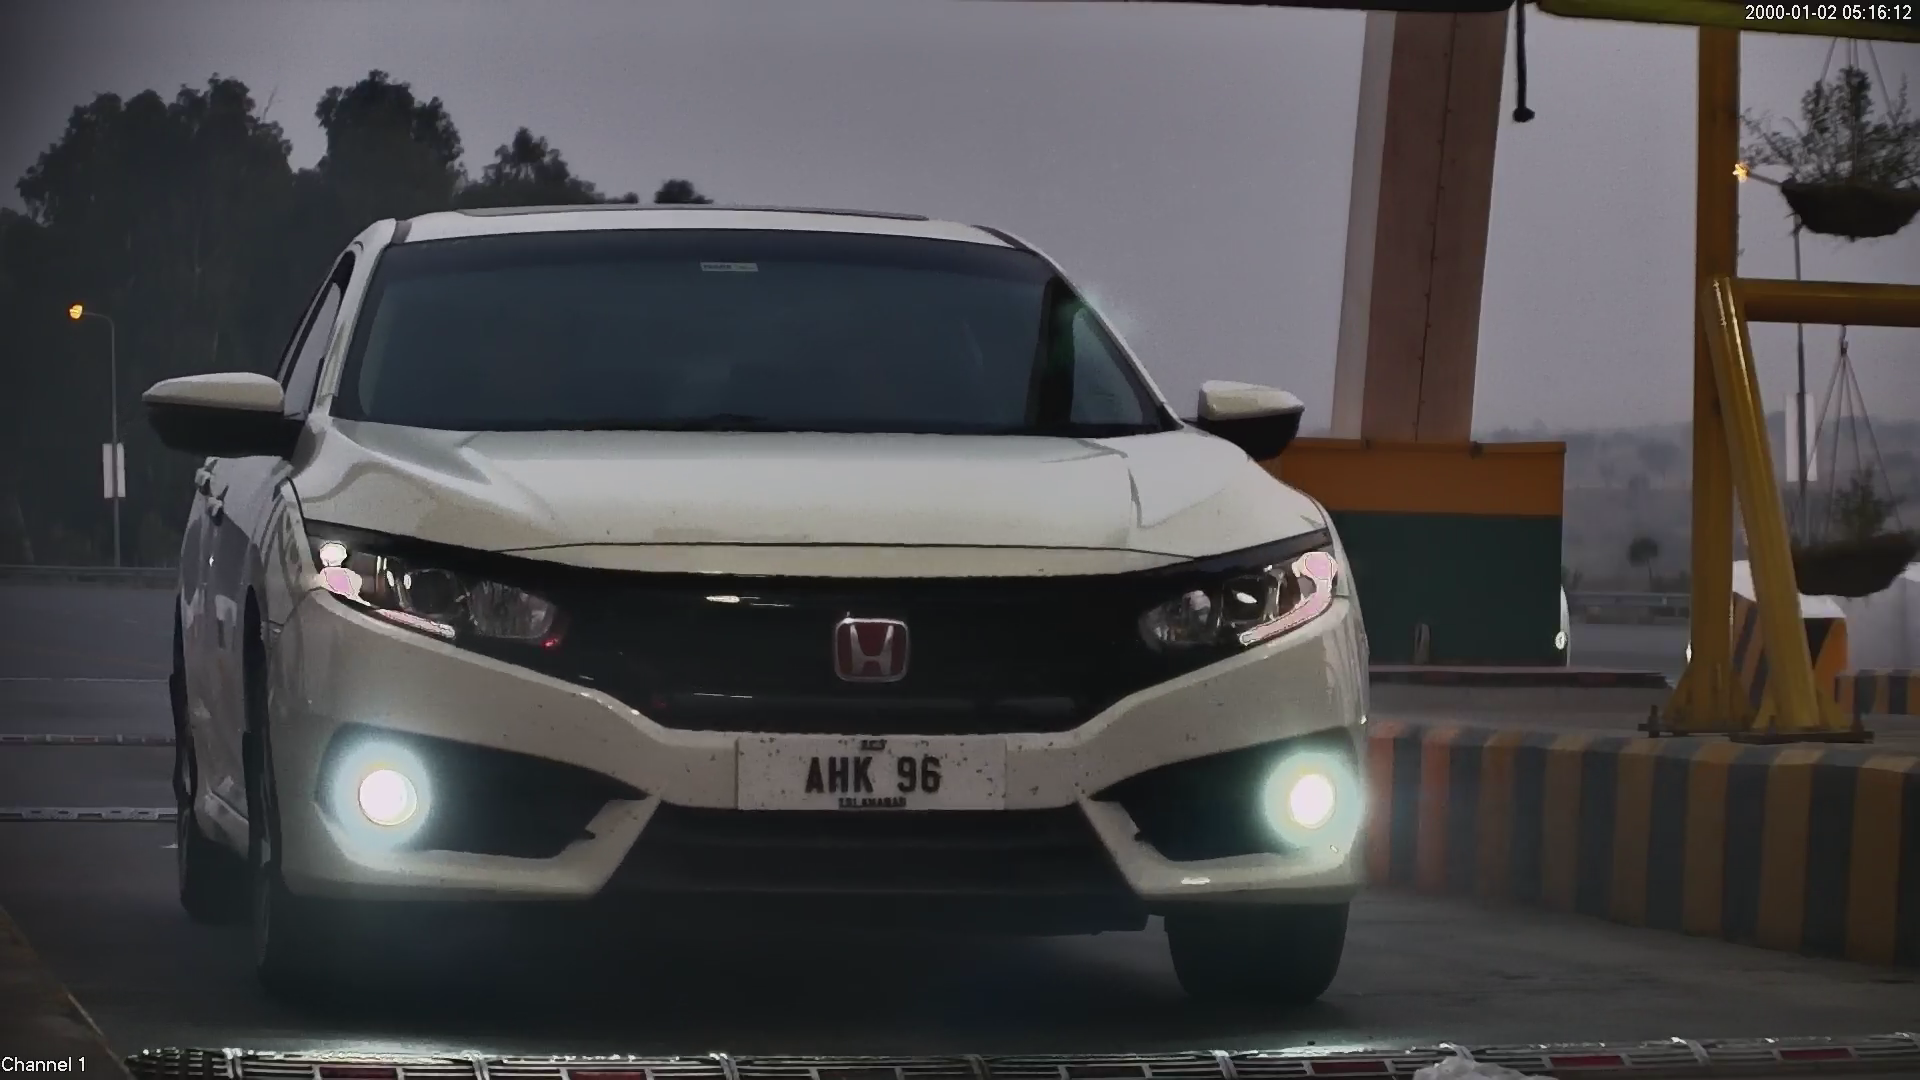Number_Plate: (722, 723, 1015, 825)
